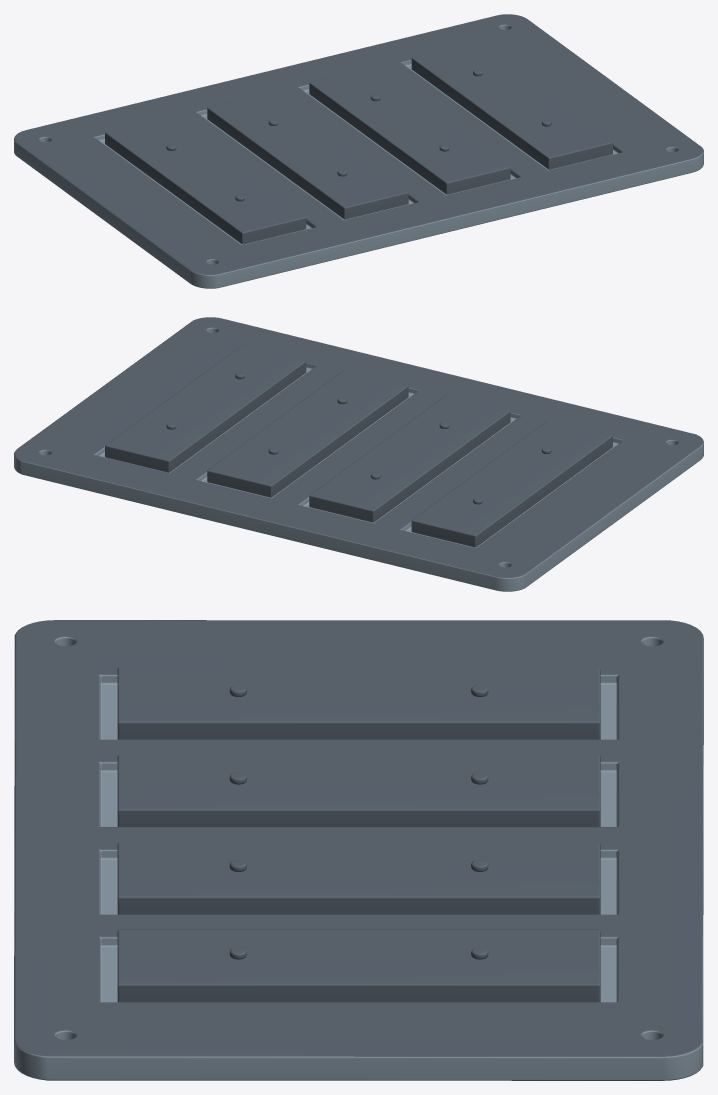
The model's file is plate-07-applications.glb.
3 views of the same model, one above another, from view 1: azimuth 30°, elevation 25°; view 2: azimuth 150°, elevation 25°; view 3: azimuth 270°, elevation 25° (orthographic). The views are drawn at different scales.
Parts seen in each view (by area): view 1: Plate_07_Applications; view 2: Plate_07_Applications; view 3: Plate_07_Applications.
Part boxes in pixels (x1,y1,x2,y2): Plate_07_Applications: [14, 14, 703, 288]; Plate_07_Applications: [14, 317, 703, 591]; Plate_07_Applications: [14, 620, 703, 1080].
Bounding box in the file's own units: 0.3 × 0.014 × 0.2.
